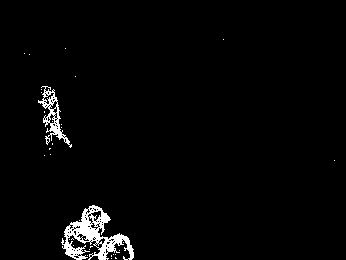person: (61, 204, 137, 260), (36, 83, 74, 157)
